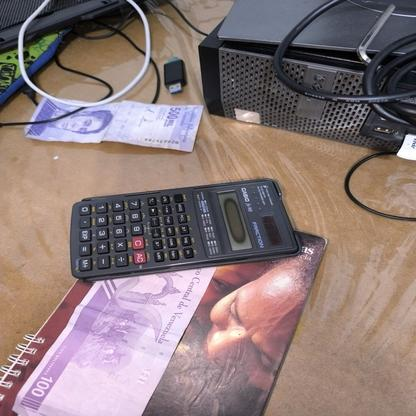one_hundred-back-vef: (10, 265, 216, 416)
